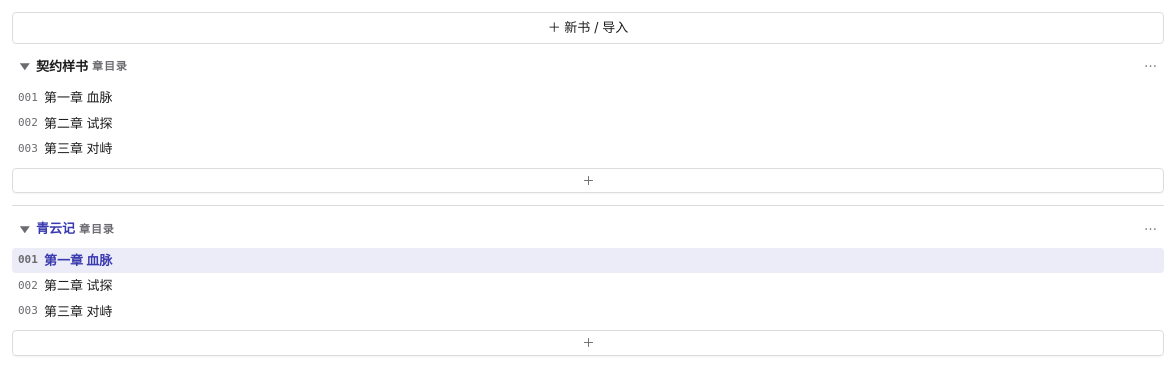
Test case: 侧栏书架 › 建不成的时候说一句，而不是静静地什么都没发生
Click the 2nd button named "新建章节" at x=588, y=343, box x1=12 y1=330 x2=1164 y2=356
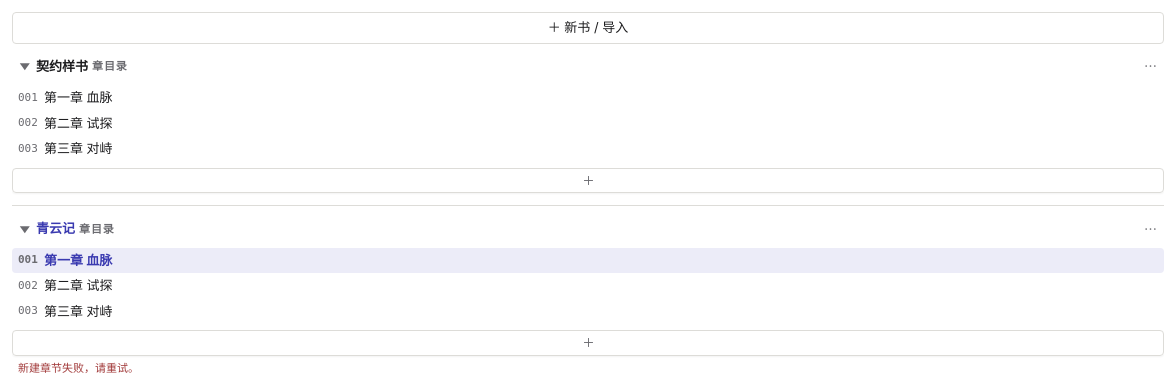
Expected: the text "新建章节失败，请重试。" is shown, x1=18 y1=360 x2=139 y2=374
